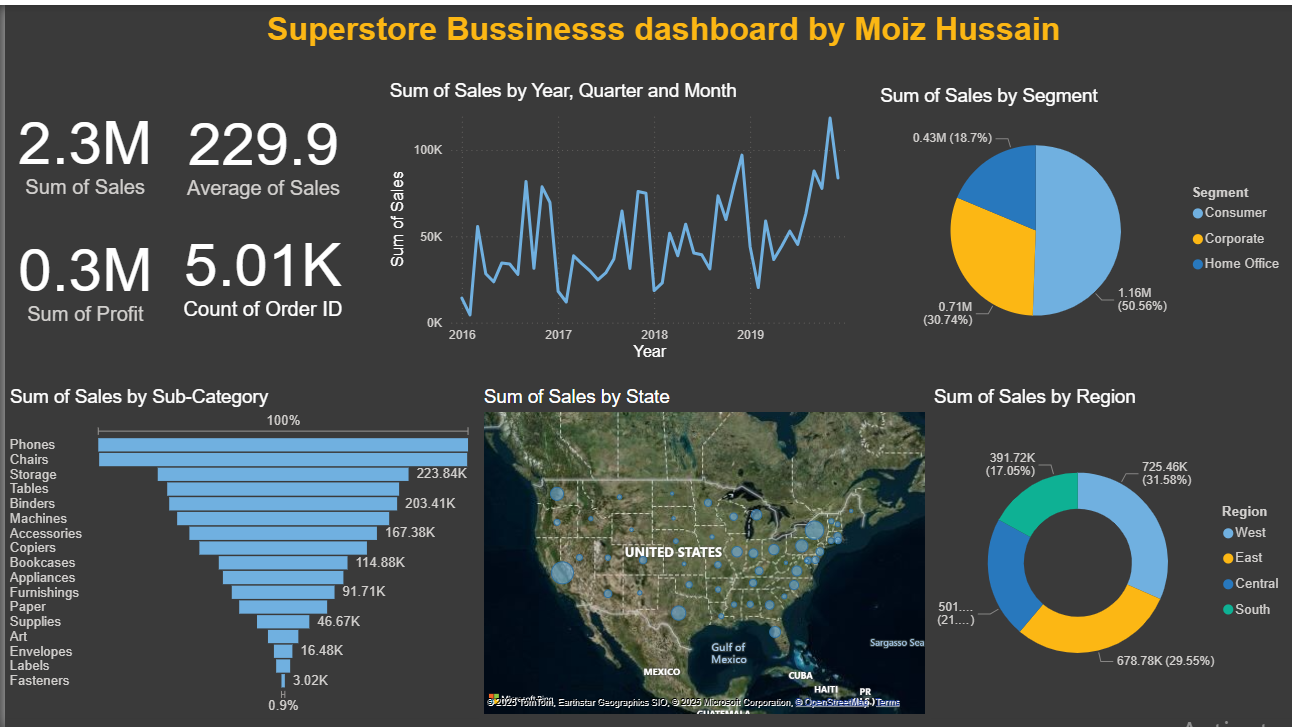

What the dashboard file says about the page in this screenshot:
{"tool":"powerbi","page":{"name":"Page 1","canvas":[1280,720],"ordinal":0},"visuals":[{"type":"donutChart","fields":{"Category":["Orders.Region"],"Y":["Sum(Orders.Sales)"]},"box":[918,378,362,330],"z":0},{"type":"pieChart","fields":{"Category":["Orders.Segment"],"Y":["Sum(Orders.Sales)"]},"box":[864.7,79.4,415.2,267.2],"z":1000},{"type":"funnel","fields":{"Category":["Orders.Sub-Category"],"Y":["Sum(Orders.Sales)"]},"box":[0,378,470,330],"z":2000},{"type":"map","fields":{"Category":["Orders.State"],"Size":["Sum(Orders.Sales)"]},"box":[470,378,448,330],"z":3000},{"type":"lineChart","fields":{"Y":["Sum(Orders.Sales)"],"Category":["Orders.Order Date.Variation.Date Hierarchy.Year","Orders.Order Date.Variation.Date Hierarchy.Quarter","Orders.Order Date.Variation.Date Hierarchy.Month"]},"box":[377.3,75.8,469.3,283.4],"z":4000},{"type":"card","fields":{"Values":["Sum(Orders.Sales)"]},"box":[0,75,160,135],"z":5000},{"type":"card","fields":{"Values":["Count(Orders.Order ID)"]},"box":[160,202.5,192.5,125],"z":6000},{"type":"card","fields":{"Values":["Sum(Orders.Profit)"]},"box":[0,210,160,117.5],"z":7000},{"type":"card","fields":{"Values":["Avg(Orders.Sales)"]},"box":[160,75,192.5,137.5],"z":8000},{"type":"textbox","box":[256,0,874,58],"z":9000}]}

Visuals, with their boxes in screenshot pixels (x1, y1, x2, y2), scaled from the page's 1280x720 canvas onto the 1292x727 screenshot:
donutChart - Orders.Region x Sum(Orders.Sales): 927,382,1291,715
pieChart - Orders.Segment x Sum(Orders.Sales): 873,80,1291,350
funnel - Orders.Sub-Category x Sum(Orders.Sales): 0,382,474,715
map - Orders.State x Sum(Orders.Sales): 474,382,927,715
lineChart - Sum(Orders.Sales) x Orders.Order Date.Variation.Date Hierarchy.Year: 381,77,855,363
card - Sum(Orders.Sales): 0,76,162,212
card - Count(Orders.Order ID): 162,204,356,331
card - Sum(Orders.Profit): 0,212,162,331
card - Avg(Orders.Sales): 162,76,356,215
textbox: 258,0,1141,59
